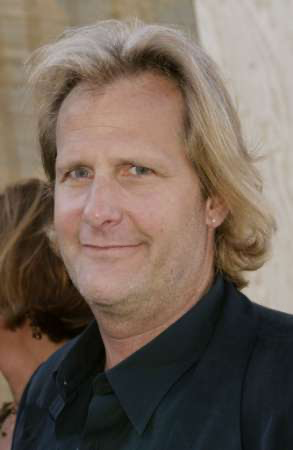Face: (47, 90, 209, 325)
